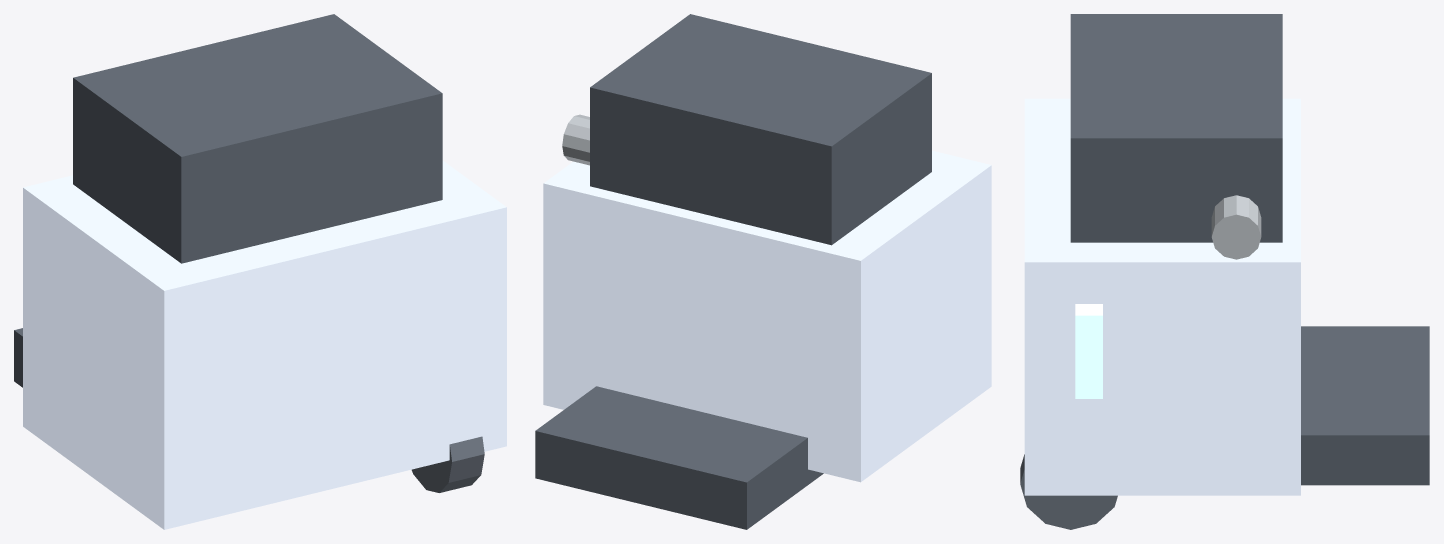
The model's file is trituradora_5.glb.
The picture shows the model from 3 angles, left to right: view 1: azimuth 30°, elevation 25°; view 2: azimuth 150°, elevation 25°; view 3: azimuth 270°, elevation 25°; orthographic projection. The views are drawn at different scales.
Parts seen in each view (by area): view 1: chasis, tolva, rueda; view 2: chasis, tolva, cinta, rodillo; view 3: chasis, tolva, cinta, rodillo, panel, rueda.
Boxes of the visible parts, box(x1,y1,x2,y2) form: chasis: box(23, 160, 506, 529); tolva: box(73, 14, 442, 263); rueda: box(411, 436, 484, 492); chasis: box(543, 150, 991, 482); tolva: box(590, 14, 931, 245); cinta: box(535, 386, 823, 529); rodillo: box(562, 114, 589, 165); chasis: box(1024, 98, 1300, 495); tolva: box(1070, 14, 1282, 242); cinta: box(1301, 326, 1429, 485); rodillo: box(1211, 195, 1261, 259); panel: box(1075, 304, 1102, 398); rueda: box(1020, 454, 1117, 529).
Bounding box in the file's own units: 0.8804 × 0.9 × 0.8707.
